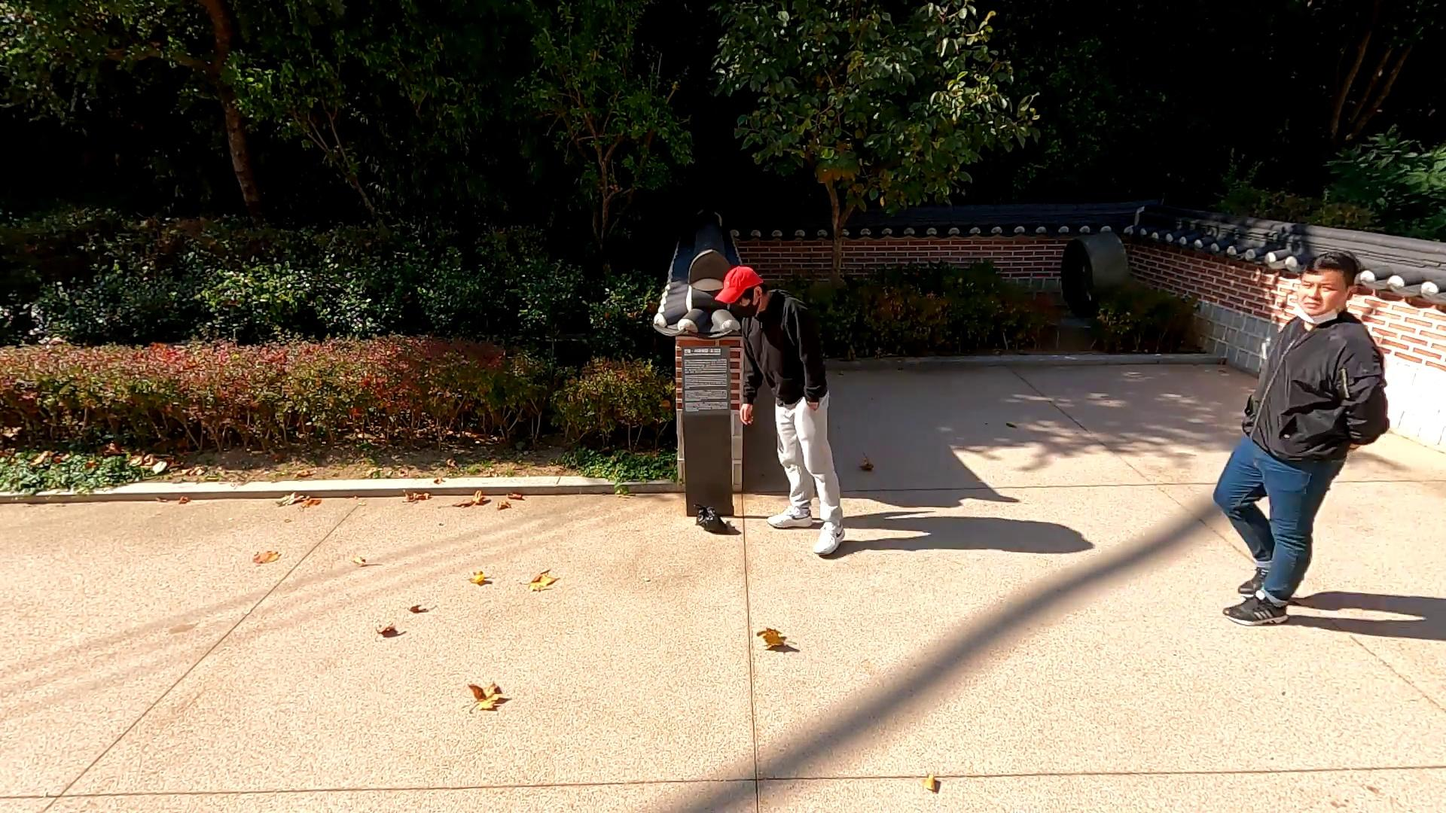person: (1213, 249, 1390, 622), (714, 264, 847, 559)
trash: (693, 503, 728, 534)
